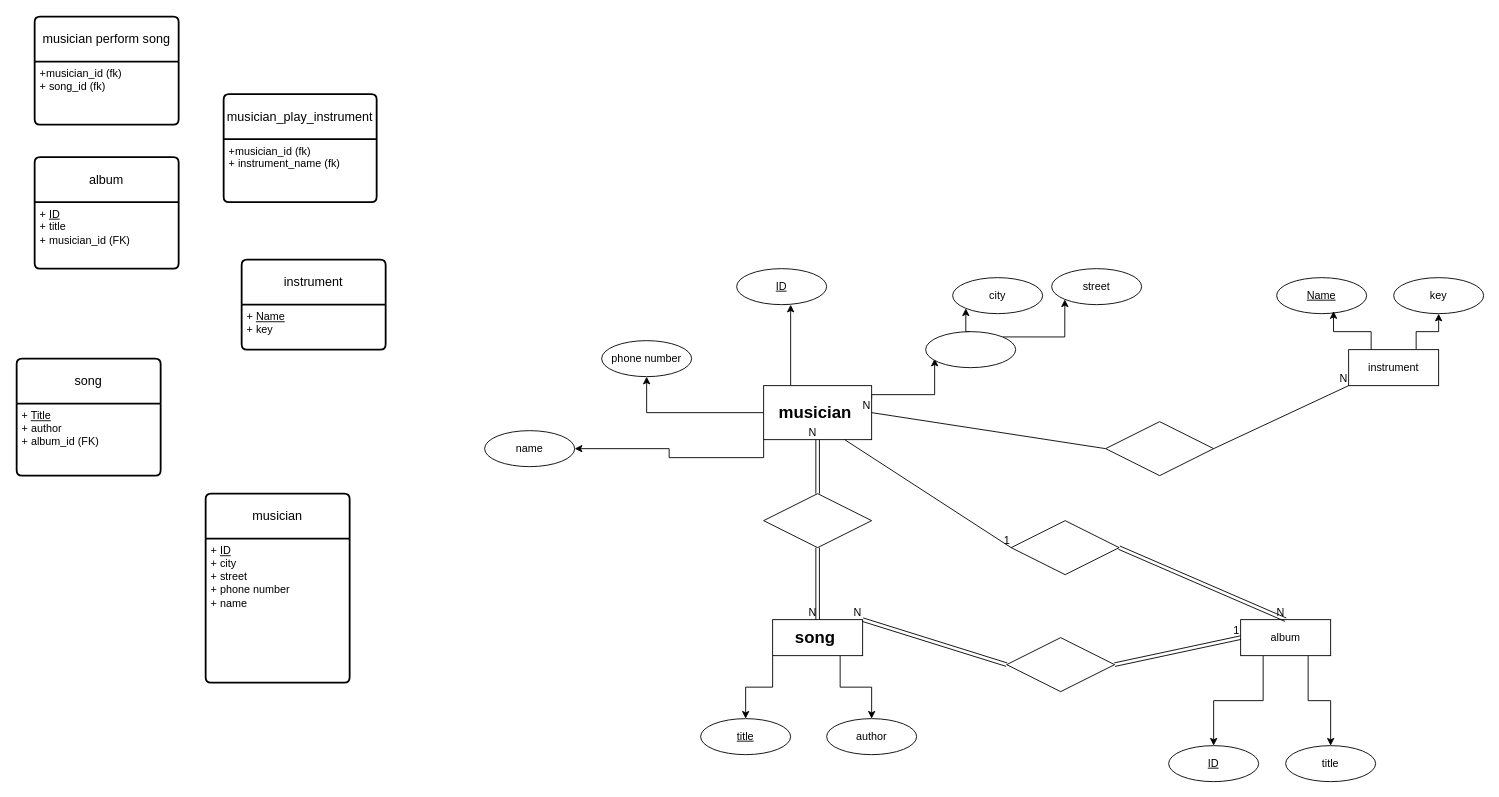
The diagram is 1499 pixels wide and 797 high, and some of its shapes have lost their labels. The centre of each missing label's shape, as x and y in pixels:
address: (x=970, y=349)
contain: (x=1060, y=664)
perform: (x=817, y=520)
play: (x=1159, y=448)
produce: (x=1064, y=547)
